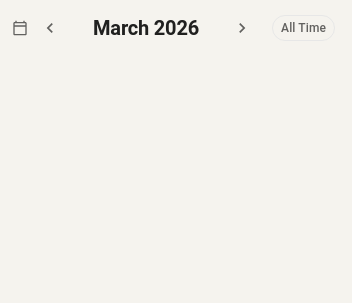
Test: MonthPicker › opens the month picker popover when month label is clicked
Click the heading "March 2026" at (146, 28), box [93, 16, 199, 40]
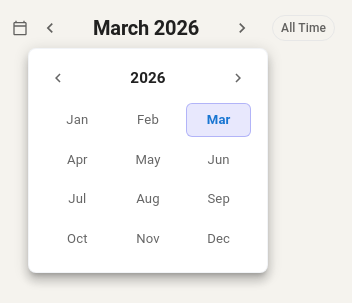
Expected: the text "Jan" is shown, [66, 112, 88, 127]
